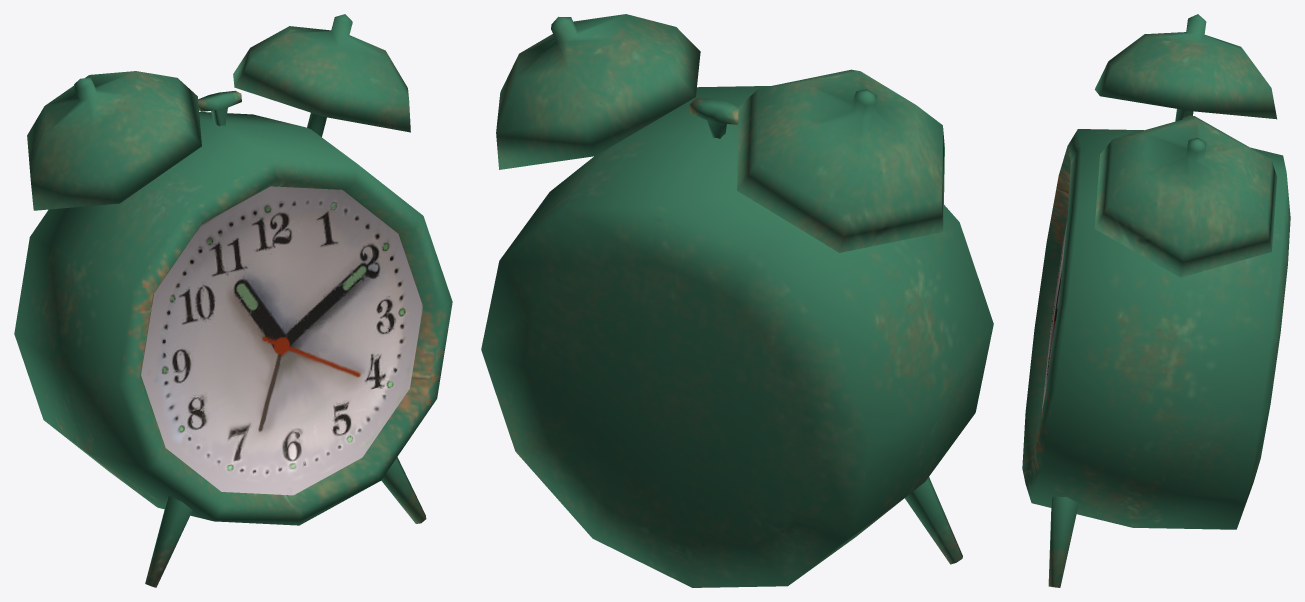
Rendered from Despertador.dae.
The picture shows the model from 3 angles, left to right: view 1: azimuth 30°, elevation 25°; view 2: azimuth 150°, elevation 25°; view 3: azimuth 270°, elevation 25°; orthographic projection. The views are drawn at different scales.
Parts seen in each view (by area): view 1: despertador_Toycorriendo_despertador; view 2: despertador_Toycorriendo_despertador; view 3: despertador_Toycorriendo_despertador.
Boxes of the visible parts, x1,y1,x2,y2 form: despertador_Toycorriendo_despertador: (14,14,452,587); despertador_Toycorriendo_despertador: (481,14,993,587); despertador_Toycorriendo_despertador: (1022,14,1290,587).
Size of the model in its own units: 3.76 by 2.36 by 4.34.
1 material, 1 textured.
